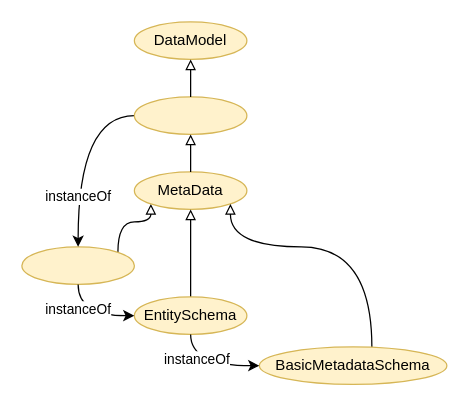
The diagram is 469 pixels wide and 406 high, and some of its shapes have lost their labels. The shapes that lost their labels are listed below. From the top down, each one's box as (x1, y1, x2, y2) in pixels, then its label:
(133, 96, 247, 134): Instance
(21, 246, 134, 284): Entity
